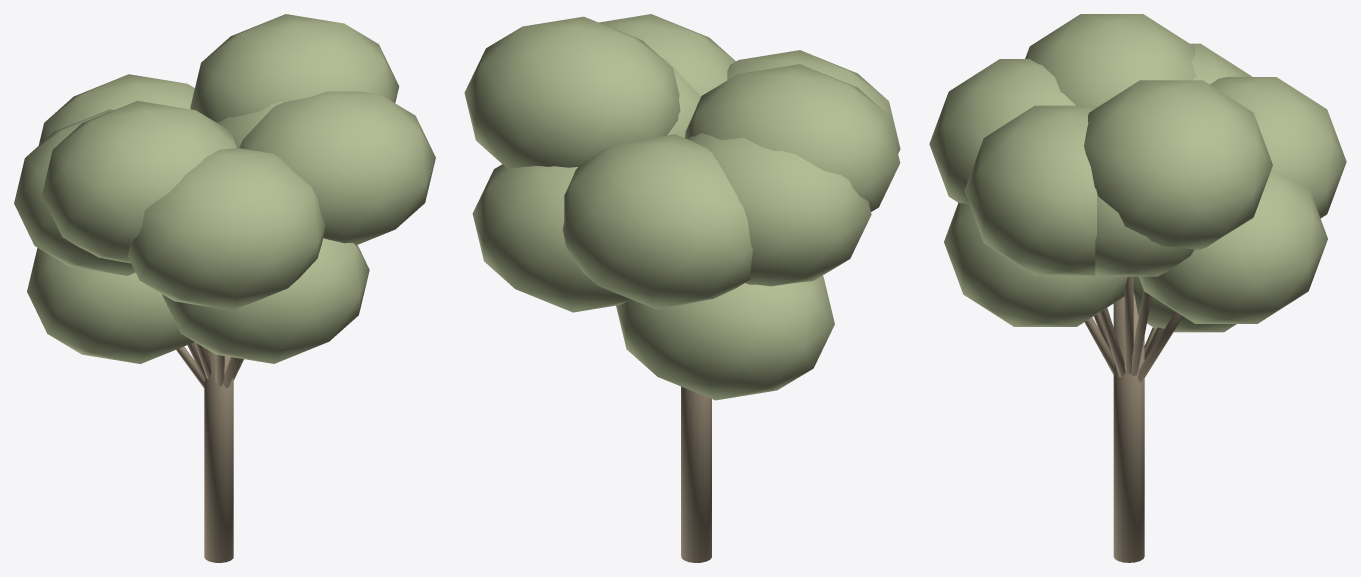
The model's file is arizona-mesquite_lod0.glb.
3 views of the same model, side by side, from view 1: azimuth 30°, elevation 25°; view 2: azimuth 150°, elevation 25°; view 3: azimuth 270°, elevation 25° (orthographic). The views are drawn at different scales.
Visible parts, largest first — view 1: RF_Foliage.007, RF_Foliage.005, RF_Foliage.004, RF_Foliage.008, RF_Foliage.002, RF_Foliage.001, RF_Trunk, RF_Foliage.009, RF_Foliage.006, RF_Foliage; view 2: RF_Foliage.006, RF_Foliage.008, RF_Foliage.001, RF_Foliage.004, RF_Foliage.009, RF_Foliage.003, RF_Trunk, RF_Foliage.005, RF_Foliage.007, RF_Foliage; view 3: RF_Foliage.008, RF_Foliage.005, RF_Foliage.003, RF_Foliage.004, RF_Foliage.002, RF_Foliage.007, RF_Foliage.006, RF_Trunk, RF_Foliage, RF_Foliage.001, RF_Foliage.009, RF_Branch.001 (+4 smaller).
Part boxes in pixels (<box>): RF_Foliage.007: <box>128,147,325,310</box>; RF_Foliage.005: <box>239,91,435,245</box>; RF_Foliage.004: <box>42,101,238,263</box>; RF_Foliage.008: <box>190,14,399,122</box>; RF_Foliage.002: <box>162,238,369,363</box>; RF_Foliage.001: <box>27,247,194,363</box>; RF_Trunk: <box>204,349,233,562</box>; RF_Foliage.009: <box>14,109,135,275</box>; RF_Foliage.006: <box>38,74,194,145</box>; RF_Foliage: <box>217,101,284,147</box>; RF_Foliage.006: <box>562,134,752,309</box>; RF_Foliage.008: <box>464,16,680,168</box>; RF_Foliage.001: <box>616,275,834,400</box>; RF_Foliage.004: <box>685,64,900,211</box>; RF_Foliage.009: <box>687,133,871,286</box>; RF_Foliage.003: <box>472,164,630,312</box>; RF_Trunk: <box>681,386,711,562</box>; RF_Foliage.005: <box>599,14,735,96</box>; RF_Foliage.007: <box>727,50,900,153</box>; RF_Foliage: <box>662,58,701,137</box>; RF_Foliage.008: <box>1084,80,1272,249</box>; RF_Foliage.005: <box>964,105,1098,275</box>; RF_Foliage.003: <box>1139,170,1327,323</box>; RF_Foliage.004: <box>1025,14,1195,106</box>; RF_Foliage.002: <box>944,202,1133,326</box>; RF_Foliage.007: <box>929,59,1075,204</box>; RF_Foliage.006: <box>1210,77,1346,218</box>; RF_Trunk: <box>1113,292,1144,562</box>; RF_Foliage: <box>1095,193,1193,276</box>; RF_Foliage.001: <box>1133,276,1236,332</box>; RF_Foliage.009: <box>1190,43,1251,84</box>; RF_Branch.001: <box>1124,276,1133,374</box>.
Size of the model in its own units: 3.59 by 4.76 by 3.49.
